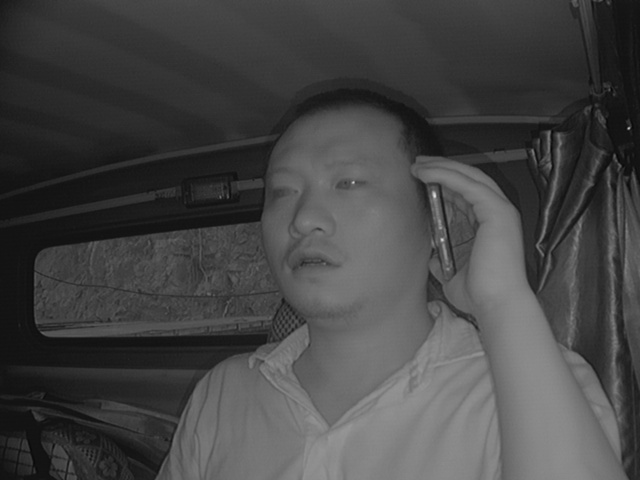hand: (406, 154, 527, 316)
